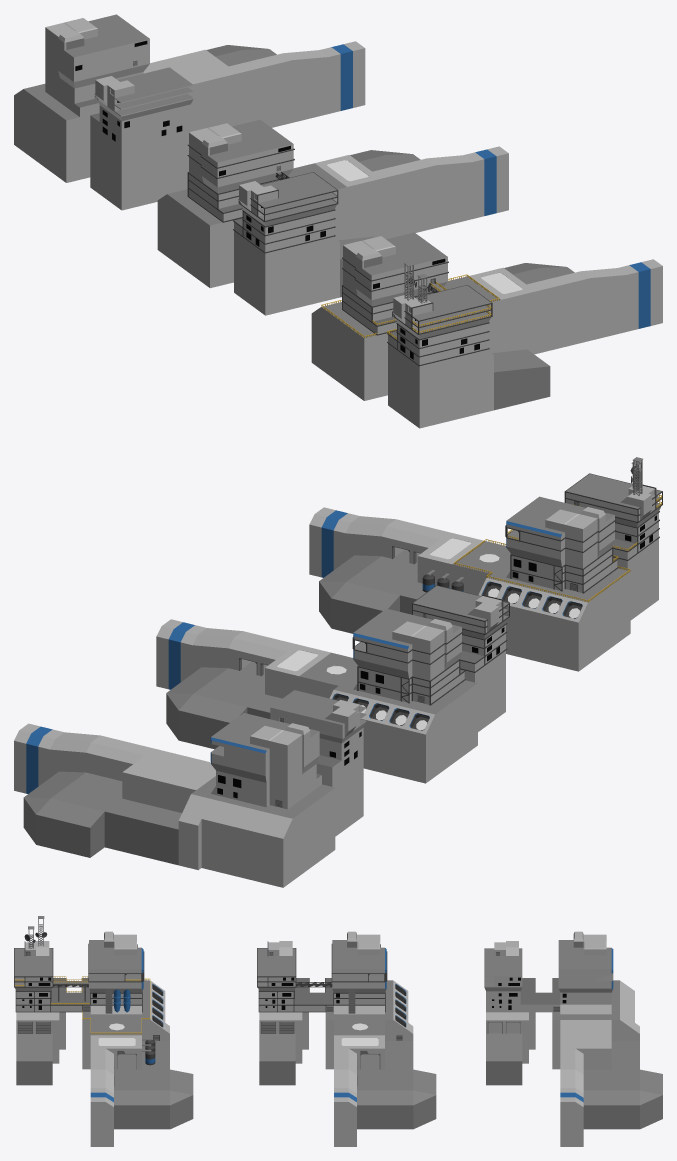
The model's file is OB_Factory_#1.fbx.
3 views of the same model, one above another, from view 1: azimuth 30°, elevation 25°; view 2: azimuth 150°, elevation 25°; view 3: azimuth 270°, elevation 25° (orthographic). The views are drawn at different scales.
Visible parts, largest first — view 1: Model_0, Model_1, Model_Skybpx; view 2: Model_Skybpx, Model_0, Model_1; view 3: Model_0, Model_1, Model_Skybpx.
Boxes of the visible parts, <box> form: Model_0: <box>311,232,662,428</box>; Model_1: <box>157,119,508,315</box>; Model_Skybpx: <box>14,14,365,210</box>; Model_Skybpx: <box>14,690,366,887</box>; Model_0: <box>309,457,662,671</box>; Model_1: <box>156,585,509,783</box>; Model_0: <box>14,916,193,1146</box>; Model_1: <box>257,931,436,1146</box>; Model_Skybpx: <box>484,931,662,1146</box>.
Bounding box in the file's own units: 16740 × 8000 × 39240.
